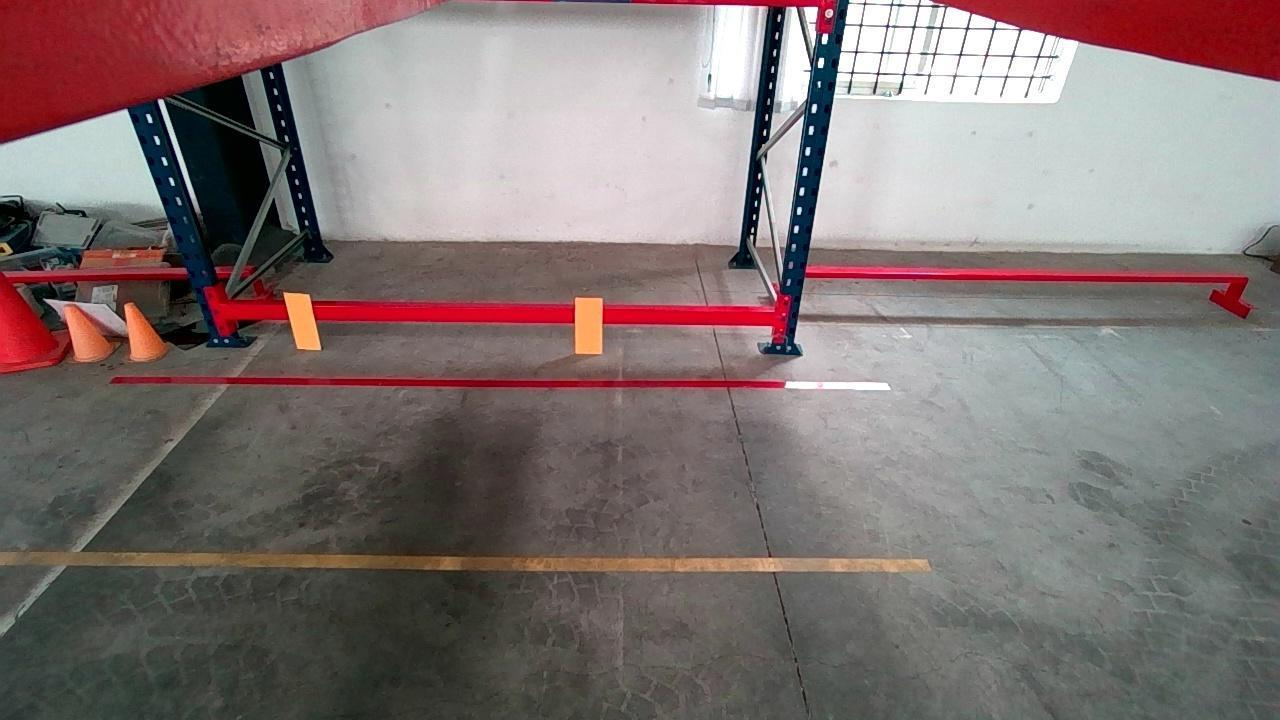h_rack: (223, 303, 781, 324)
orange_strip: (286, 291, 319, 350), (574, 297, 604, 352)
red_line: (113, 373, 891, 389)
yellow_line: (2, 552, 931, 570)
